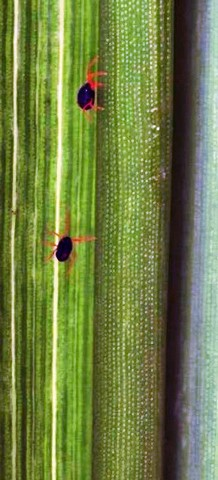Wheat Red Spider: (34, 206, 105, 276)
